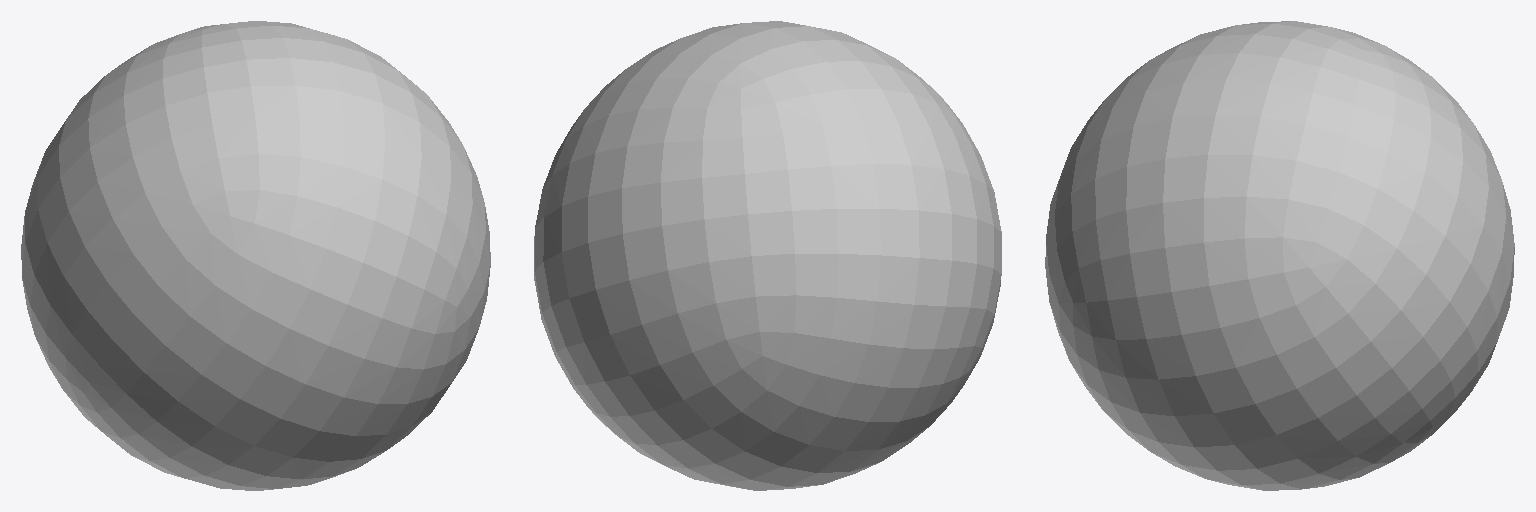
Rendered from moon.obj.
The picture shows the model from 3 angles: view 1: azimuth 30°, elevation 25°; view 2: azimuth 150°, elevation 25°; view 3: azimuth 270°, elevation 25°; orthographic projection.
Visible parts, largest first — view 1: Moon_Cube.002; view 2: Moon_Cube.002; view 3: Moon_Cube.002.
Part boxes in pixels (left/top/right/bottom): Moon_Cube.002: left=21, top=21, right=490, bottom=490; Moon_Cube.002: left=534, top=21, right=1001, bottom=490; Moon_Cube.002: left=1045, top=21, right=1514, bottom=490.
Size of the model in its own units: 3.45 by 3.45 by 3.44.